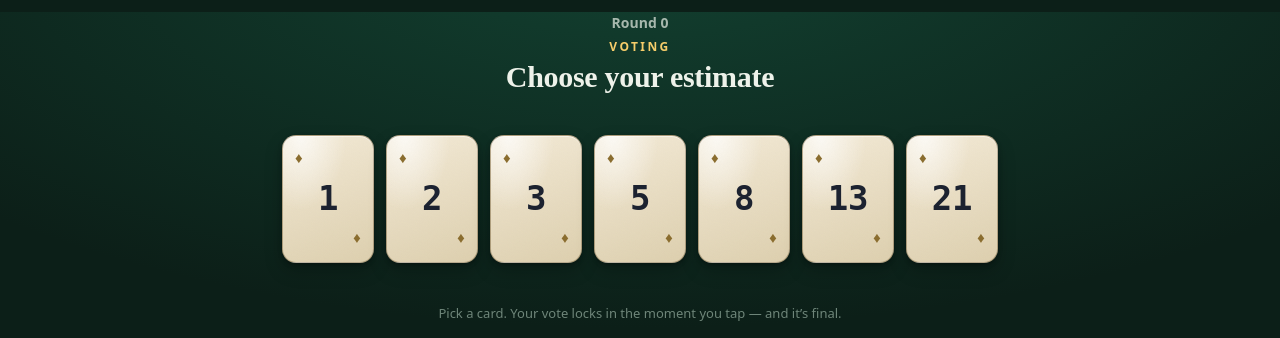
Test: Deck › enables cards while voting and locks my vote permanently on pick
Step 1. Click the button named "Vote 8" → point(744, 199), box [698,135,790,263]
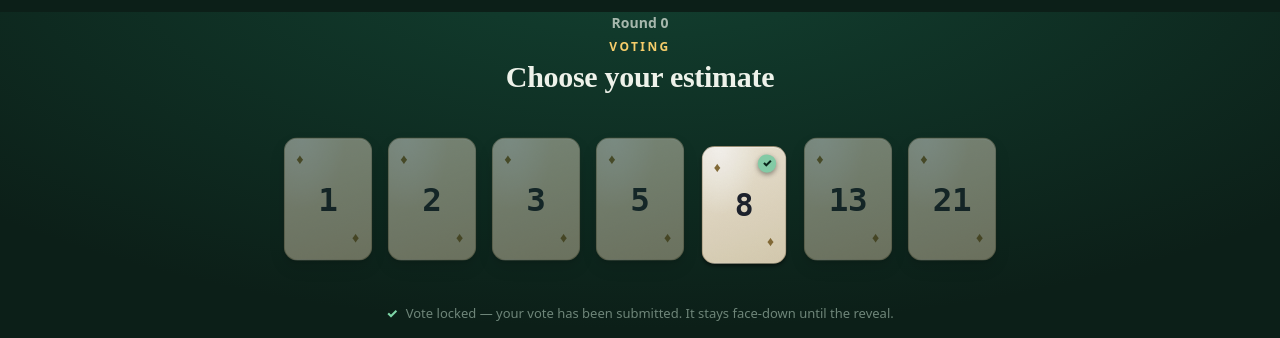
expect the text "Vote locked" is shown: met, box [406,304,894,322]
